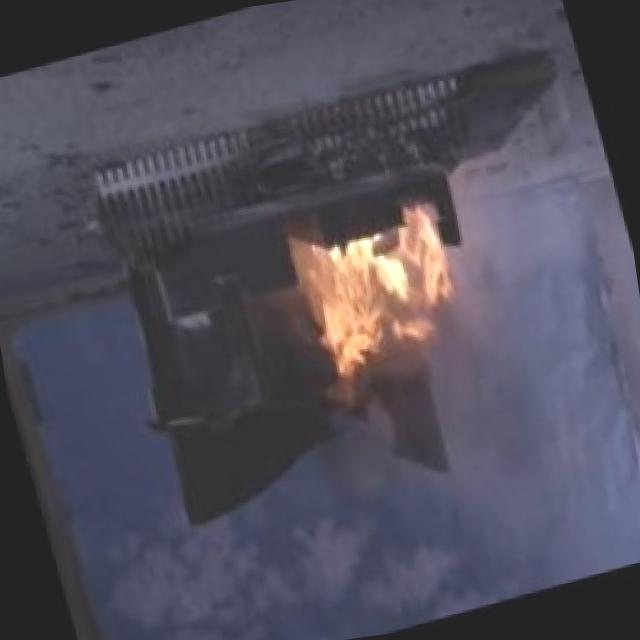fire: (254, 178, 501, 414)
